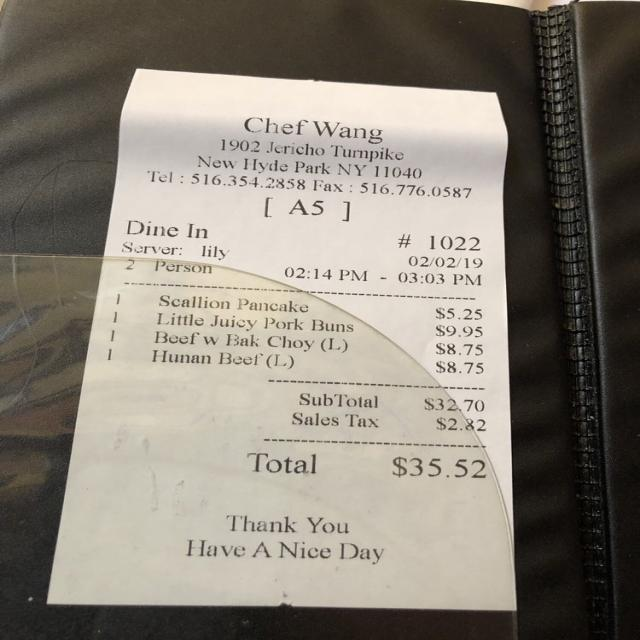TotalPrice: (225, 440, 515, 490)
